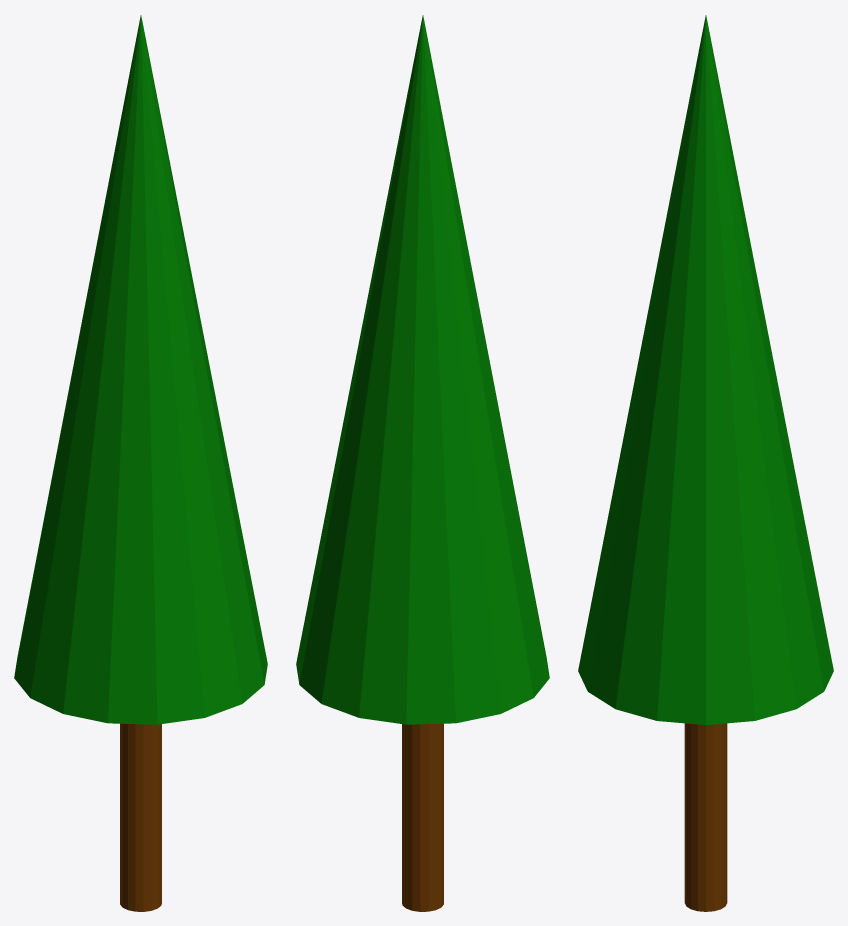
Rendered from tree3.fbx.
3 renders of one model, left to right at view 1: azimuth 30°, elevation 25°; view 2: azimuth 150°, elevation 25°; view 3: azimuth 270°, elevation 25°, orthographic.
Parts seen in each view (by area): view 1: Tree3; view 2: Tree3; view 3: Tree3.
Part boxes in pixels (x1=…): Tree3: x1=14, y1=15, x2=267, y2=911; Tree3: x1=296, y1=15, x2=549, y2=911; Tree3: x1=578, y1=15, x2=833, y2=911.
Bounding box in the file's own units: 600 × 2300 × 600.
